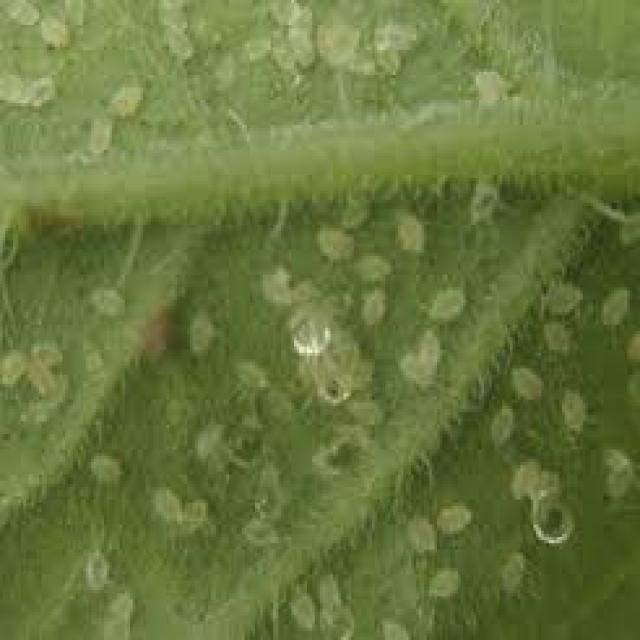Pestalotiopsis: (0, 0, 632, 638)
